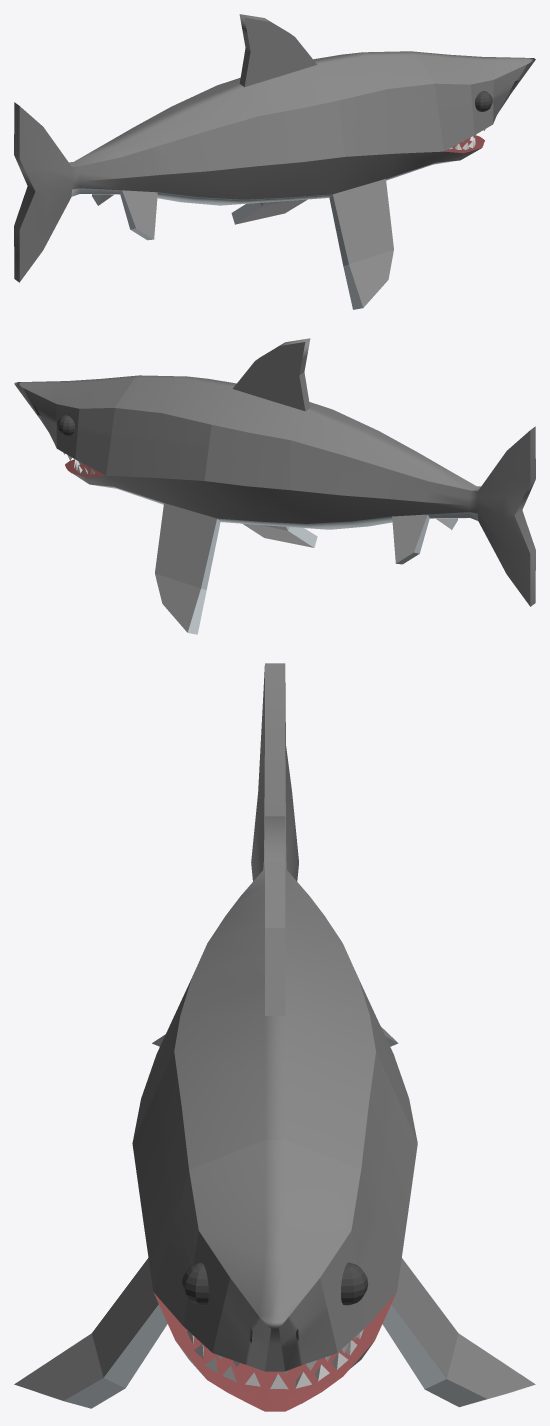
Rendered from shark 3.fbx.
The picture shows the model from 3 angles, top to bottom: view 1: azimuth 30°, elevation 25°; view 2: azimuth 150°, elevation 25°; view 3: azimuth 270°, elevation 25°; orthographic projection. The views are drawn at different scales.
Parts seen in each view (by area): view 1: Shark; view 2: Shark; view 3: Shark.
Boxes of the visible parts, x1,y1,x2,y2 form: Shark: (14,14,535,309); Shark: (14,338,535,634); Shark: (14,663,535,1411).
Size of the model in its own units: 6.65 by 3.24 by 2.91.
